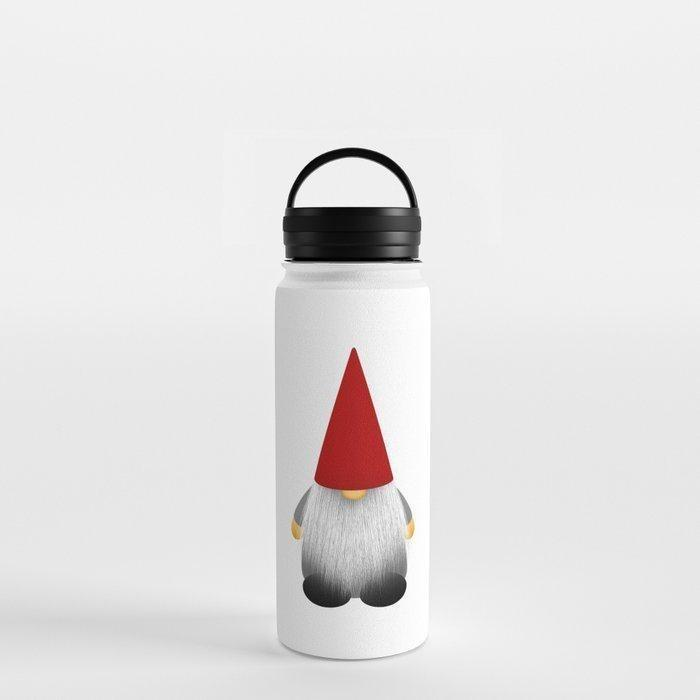gym bottle: (269, 145, 437, 663)
